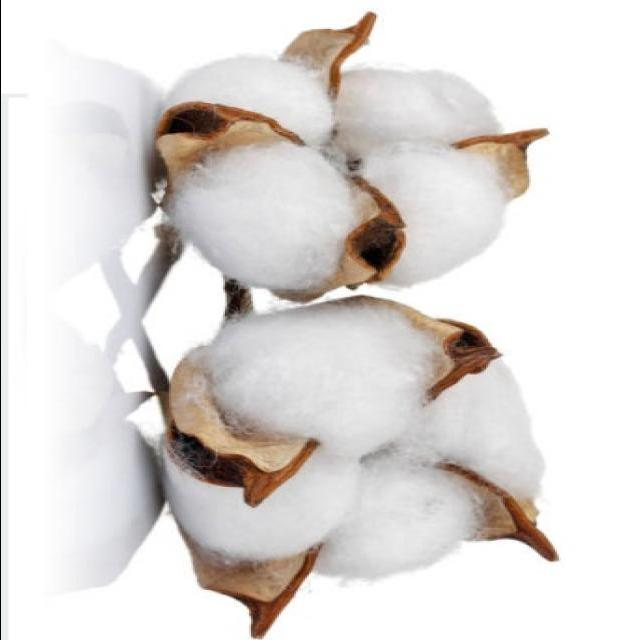Matured Cotton Boll: (158, 294, 553, 611), (146, 31, 532, 297)
